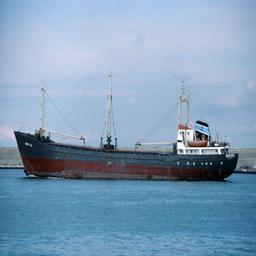Ship: (13, 80, 243, 184)
